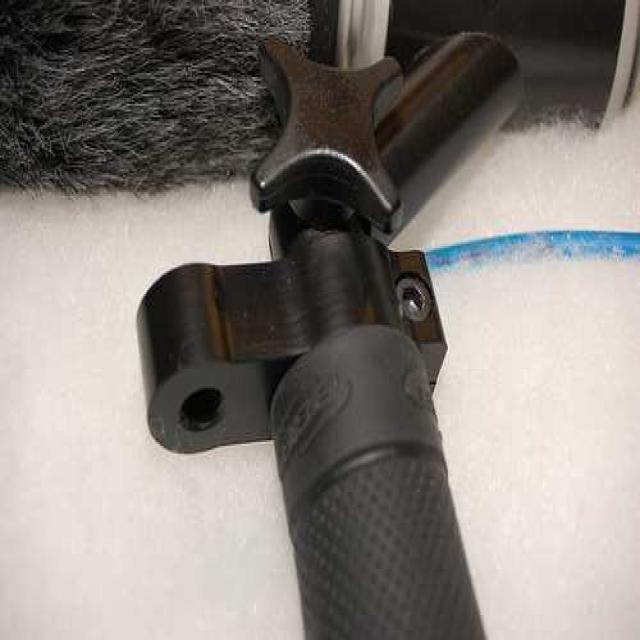microphone: (145, 237, 505, 640)
